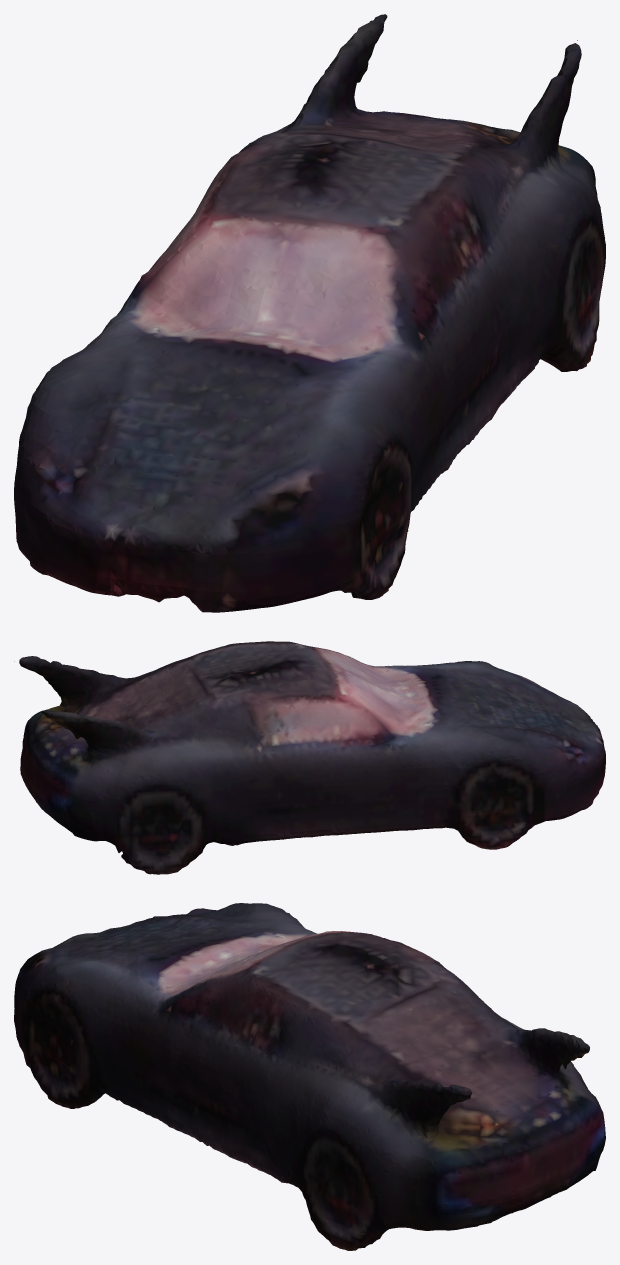
The model's file is ours-conv.glb.
3 views of the same model, one above another, from view 1: azimuth 30°, elevation 25°; view 2: azimuth 150°, elevation 25°; view 3: azimuth 270°, elevation 25° (orthographic). The views are drawn at different scales.
Visible parts, largest first — view 1: ours.obj; view 2: ours.obj; view 3: ours.obj.
Boxes of the visible parts, x1,y1,x2,y2 form: ours.obj: (14,14,605,612); ours.obj: (14,641,605,874); ours.obj: (14,903,605,1250).
Bounding box in the file's own units: 1.45 × 0.4833 × 1.3.
